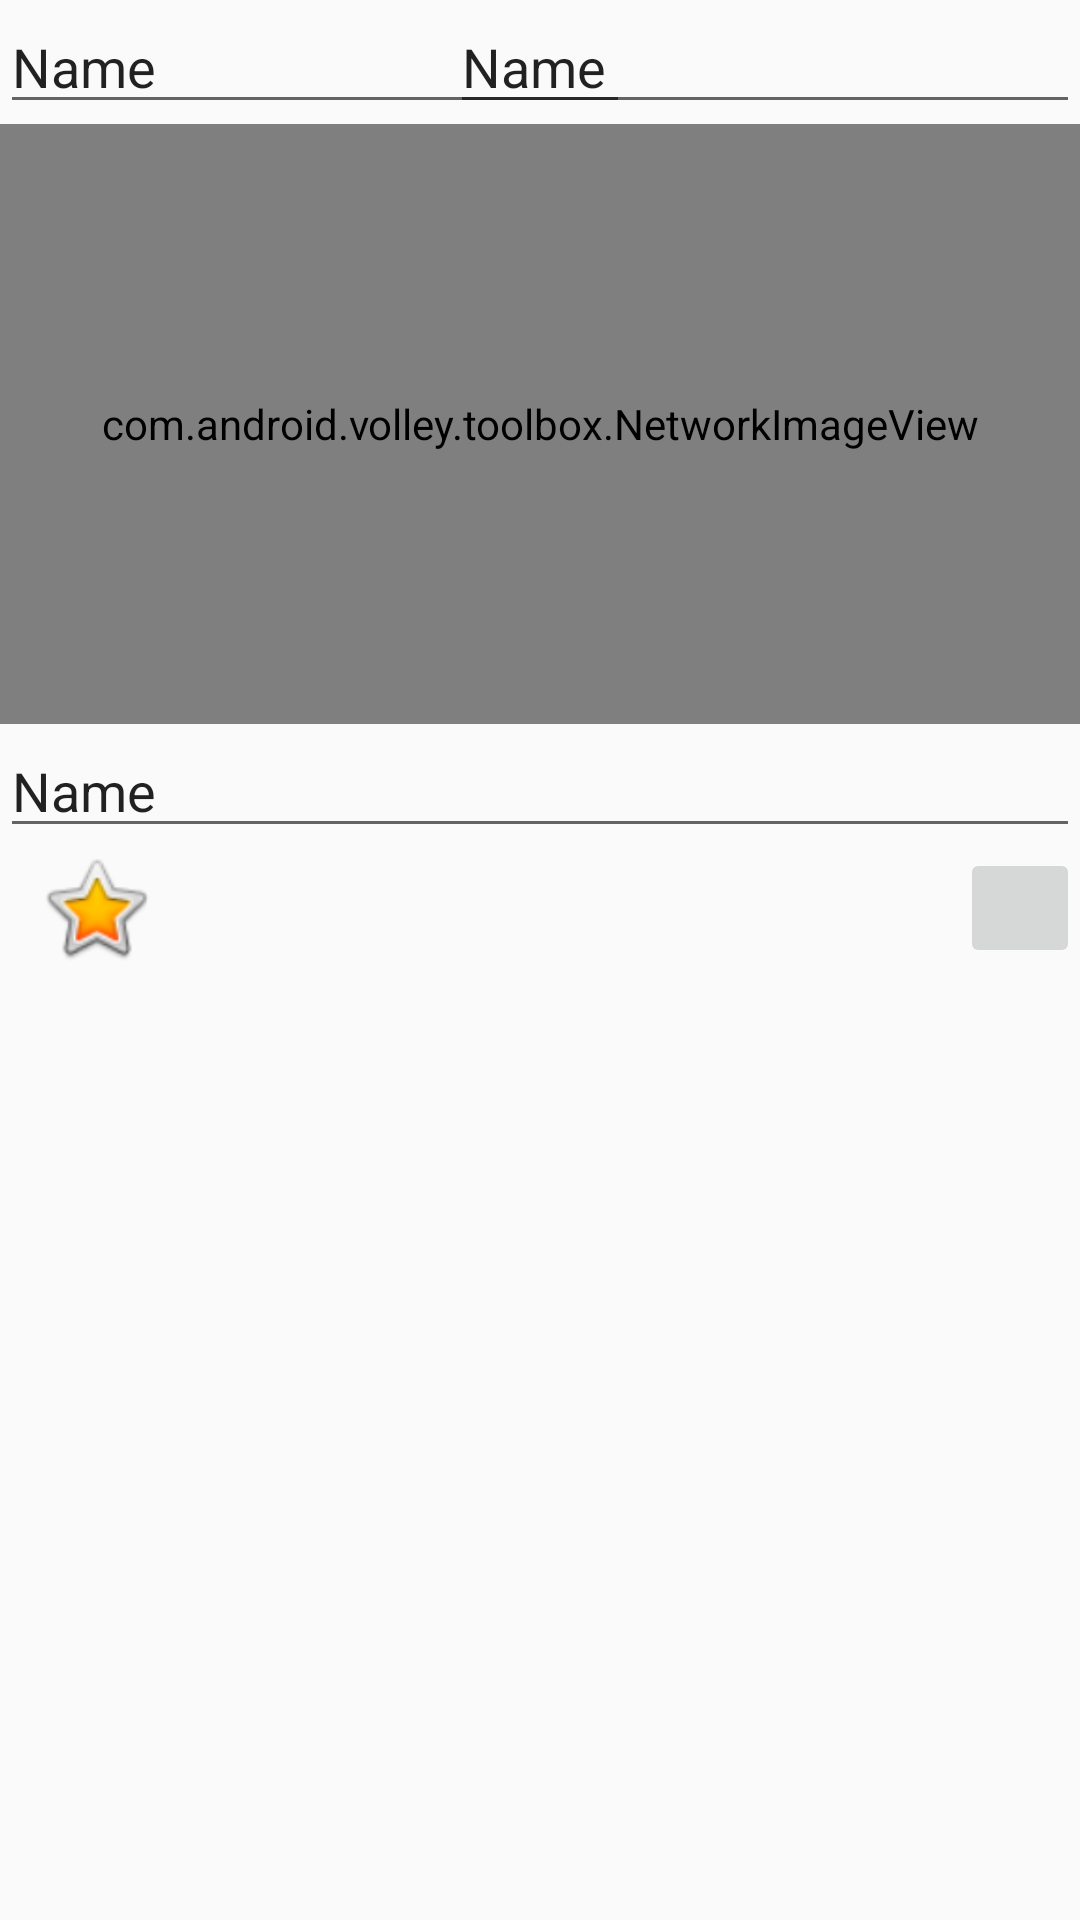

Screen size 1080*1920. Icon name, then its box in pixels as (x1, y1, x2, y2):
star on: (47, 860, 147, 958)
